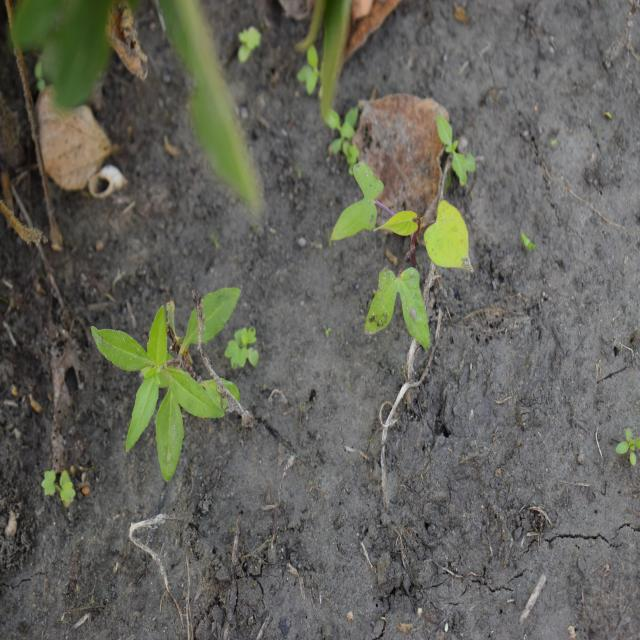Eclipta: (89, 285, 242, 485)
MorningGlory: (328, 159, 476, 351)
